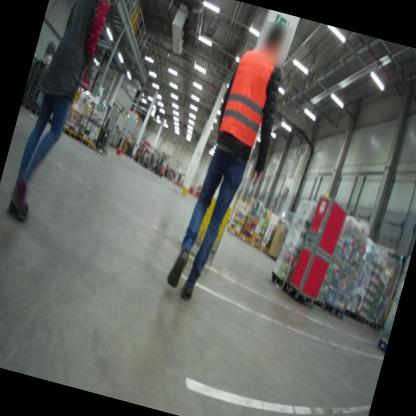pallet: (318, 296, 348, 320), (374, 333, 388, 353), (355, 310, 368, 326), (362, 316, 374, 328), (372, 320, 383, 332)
pallet_truck: (152, 152, 173, 180)
